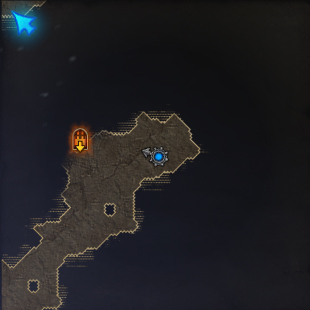Exit: (70, 126, 90, 153)
